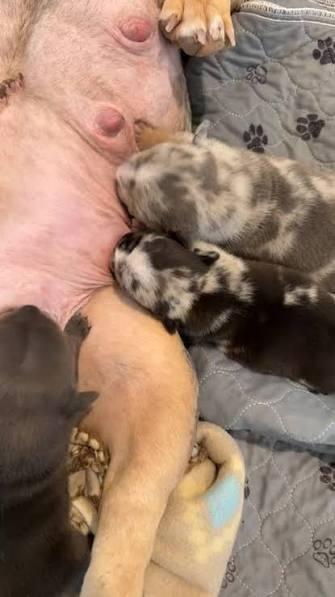adult_dog: (0, 0, 236, 590)
puppy-dog: (113, 126, 335, 295), (112, 228, 335, 396), (0, 305, 102, 597)
